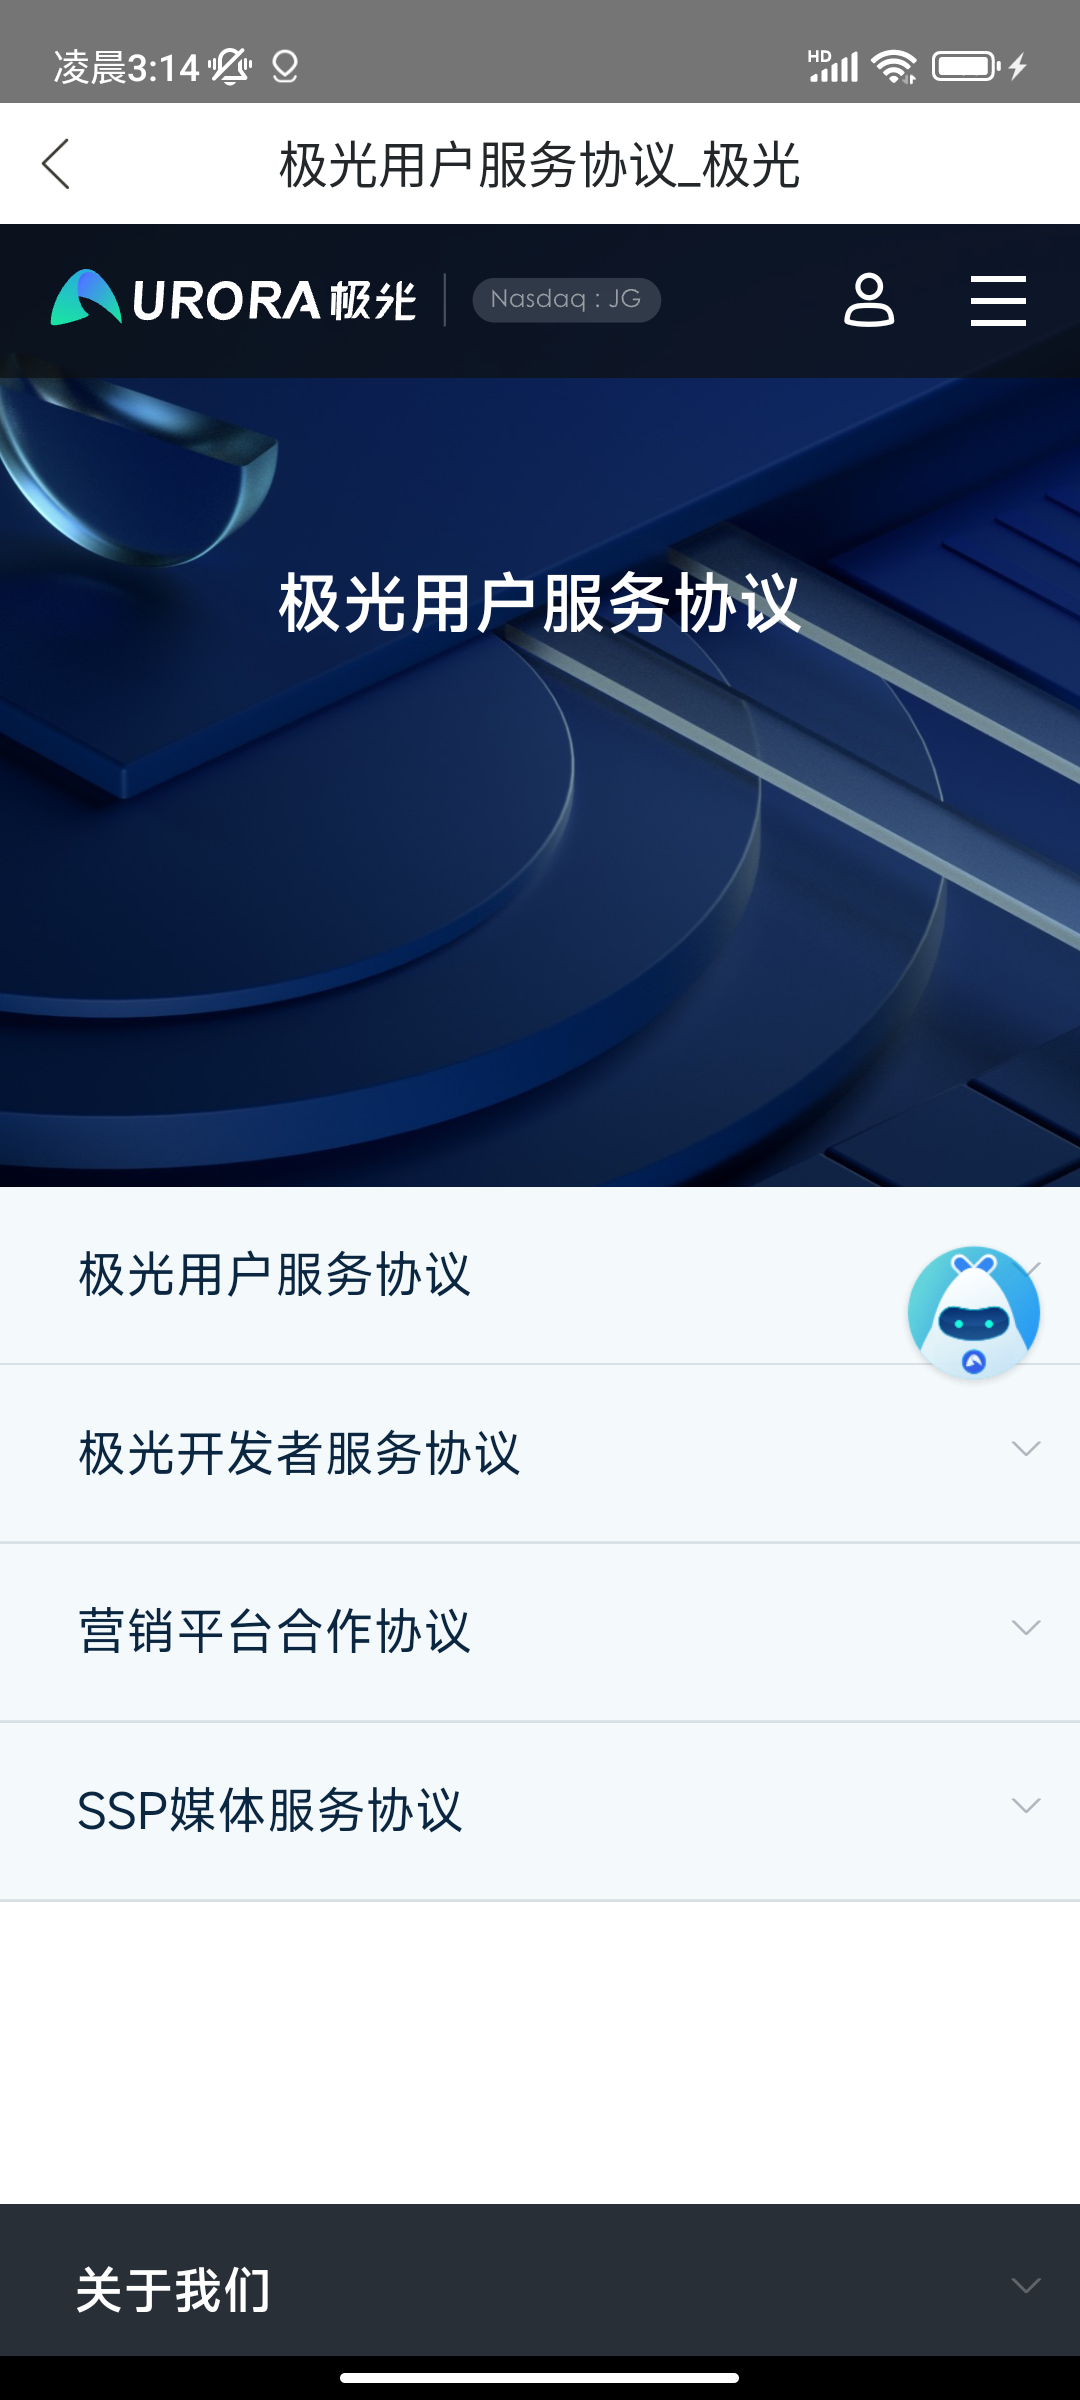ui_group: (11, 1742, 1080, 1898), (34, 1563, 1068, 1717), (3, 2210, 1080, 2356)
